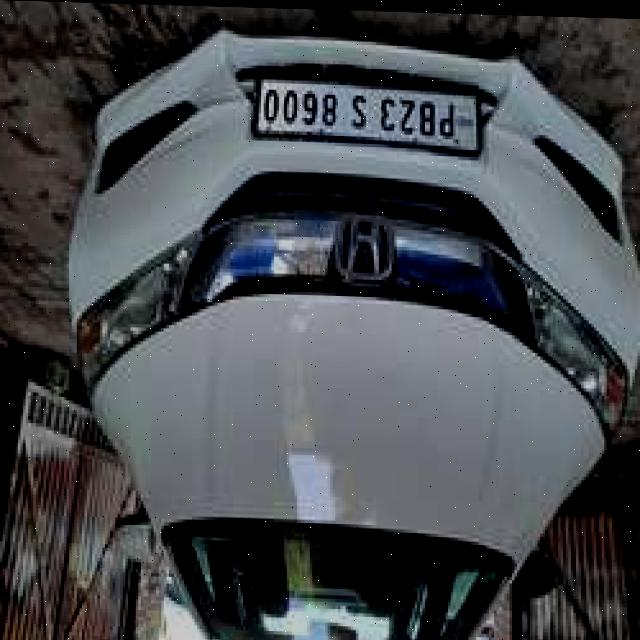plate: (248, 68, 484, 160)
